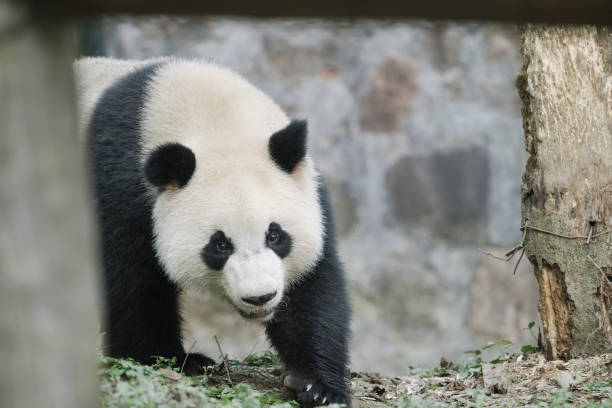panda: (103, 103, 333, 348)
